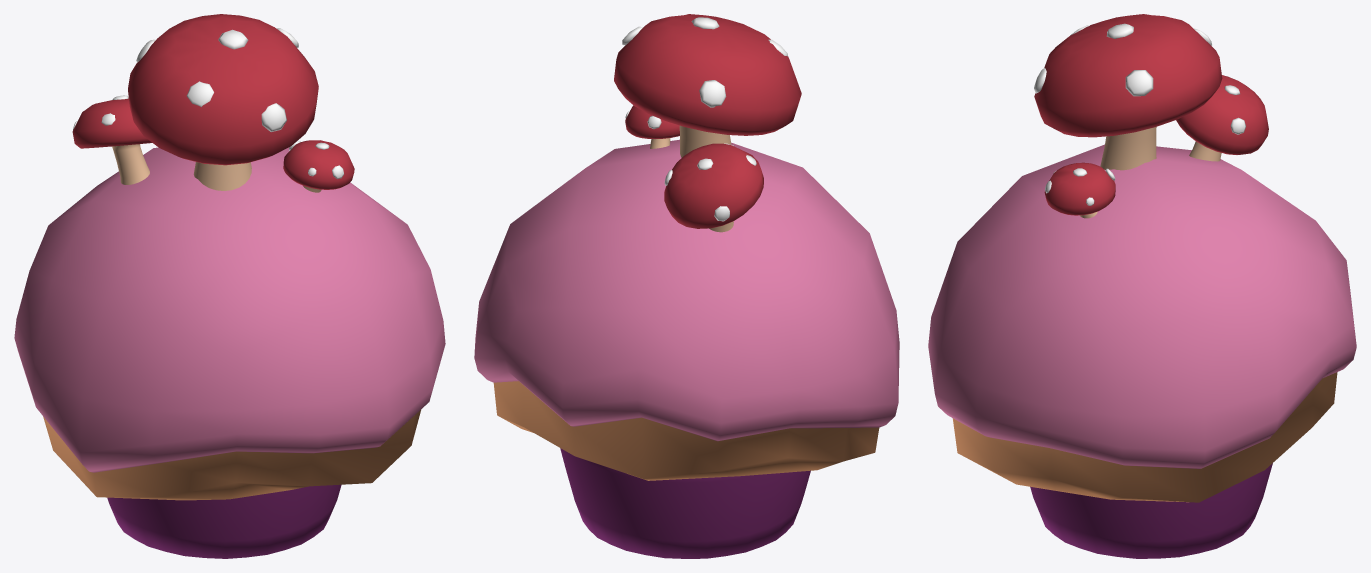
File: Shroom_Muffin_Food.glb
3 renders of one model, left to right at view 1: azimuth 30°, elevation 25°; view 2: azimuth 150°, elevation 25°; view 3: azimuth 270°, elevation 25°, orthographic.
Visible parts, largest first — view 1: Shroom_Muffin_Food; view 2: Shroom_Muffin_Food; view 3: Shroom_Muffin_Food.
Boxes of the visible parts, <box> form: Shroom_Muffin_Food: <box>14,14,445,558</box>; Shroom_Muffin_Food: <box>474,14,899,558</box>; Shroom_Muffin_Food: <box>928,14,1356,558</box>.
Bounding box in the file's own units: 0.0795 × 0.0994 × 0.0794.
1 material, 1 textured.
